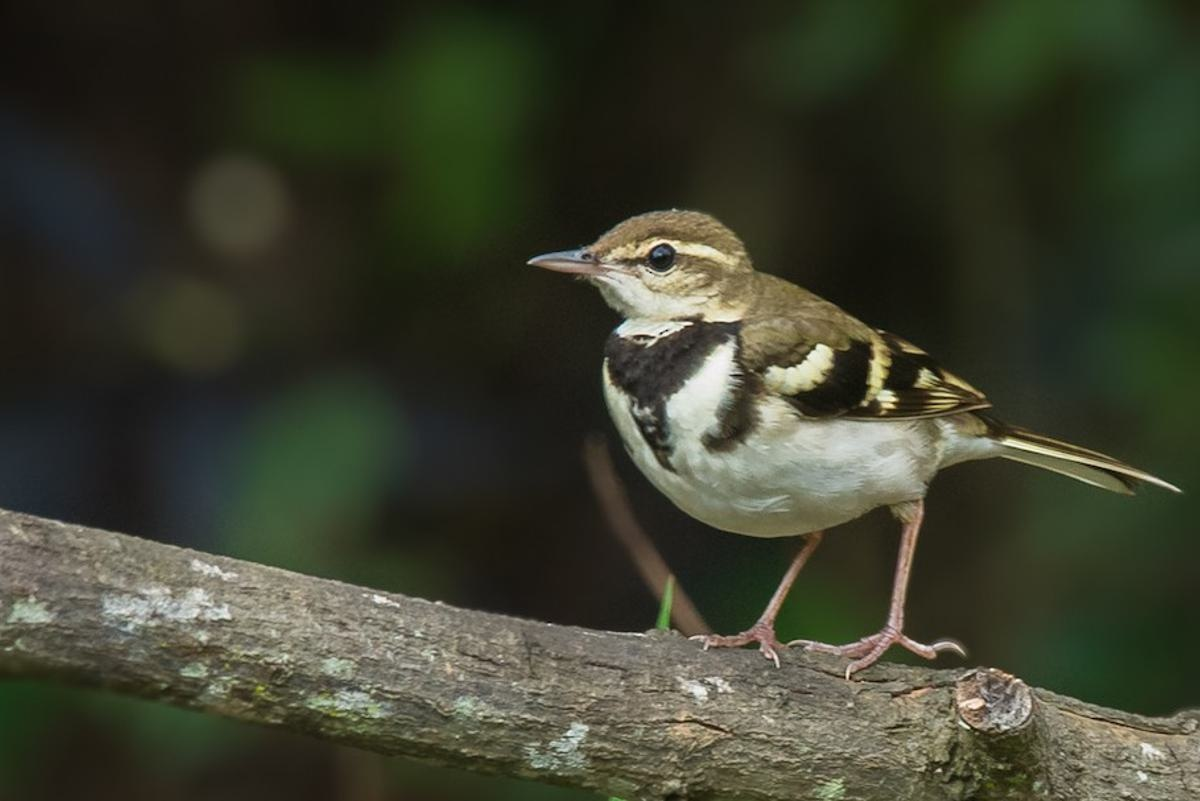wagtail: (528, 172, 1103, 667)
